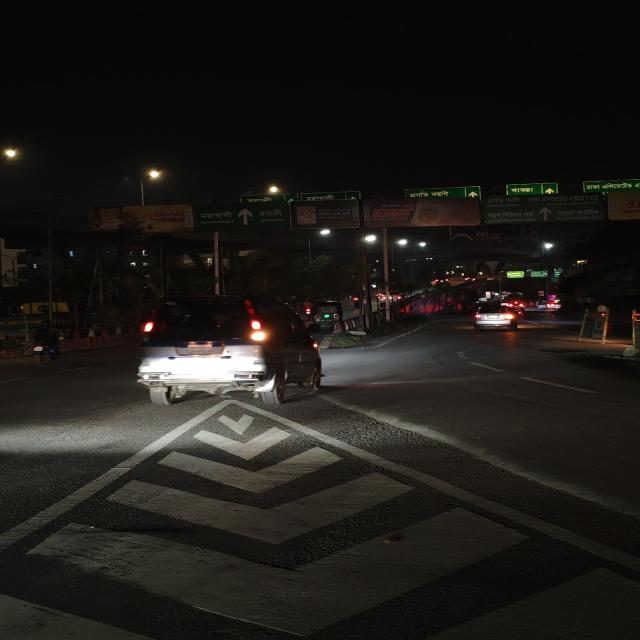car: (132, 293, 329, 411), (469, 301, 523, 333)
motorcycle: (22, 322, 69, 367)
